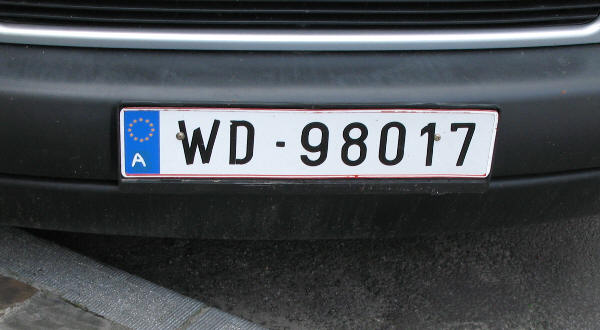license_plate: (118, 106, 498, 180)
